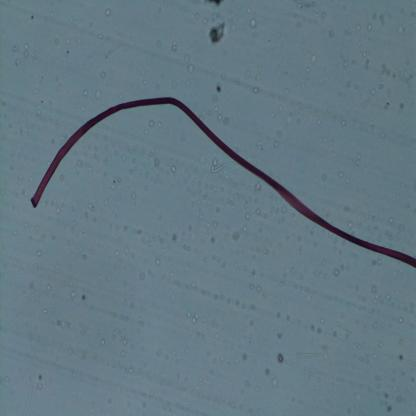Background material: (12, 265, 74, 382), (376, 59, 410, 83), (207, 18, 228, 46), (380, 390, 395, 416), (209, 160, 236, 174), (53, 315, 72, 334), (357, 350, 381, 363), (148, 148, 163, 168), (19, 40, 34, 58), (204, 1, 228, 12), (200, 290, 222, 301), (116, 329, 130, 346), (319, 24, 334, 38), (188, 310, 201, 326), (368, 282, 381, 296), (171, 38, 181, 56), (78, 208, 90, 223), (307, 53, 320, 65), (394, 310, 405, 324), (249, 12, 256, 34), (230, 230, 240, 245), (397, 22, 407, 37), (359, 60, 371, 72), (277, 350, 288, 363), (268, 134, 278, 148), (30, 82, 40, 96), (220, 114, 231, 126), (96, 67, 106, 80), (147, 115, 156, 129), (375, 336, 384, 350), (93, 86, 102, 100), (134, 270, 146, 280), (169, 166, 180, 176), (111, 176, 123, 185), (371, 319, 380, 331), (102, 8, 112, 18), (286, 112, 296, 122), (184, 53, 193, 64), (215, 83, 222, 97), (397, 102, 405, 114), (100, 336, 108, 348), (196, 210, 204, 222), (250, 85, 259, 95), (86, 201, 96, 210), (255, 284, 264, 294), (156, 37, 165, 47), (187, 62, 194, 74), (182, 244, 191, 253), (152, 257, 160, 266), (70, 291, 78, 300), (134, 228, 143, 236), (242, 350, 248, 362), (14, 57, 22, 66), (209, 234, 216, 244), (53, 36, 60, 46), (254, 179, 260, 190), (171, 232, 177, 243), (249, 303, 257, 311), (277, 334, 285, 342), (245, 213, 254, 220), (35, 247, 41, 257), (384, 101, 390, 111), (366, 22, 372, 32), (336, 172, 344, 179), (387, 216, 394, 224), (45, 283, 53, 290), (254, 206, 260, 215), (241, 301, 247, 310), (265, 366, 271, 375), (38, 232, 44, 240), (285, 314, 291, 322), (310, 324, 316, 332), (248, 282, 254, 290), (274, 313, 282, 319), (400, 352, 404, 362), (82, 295, 86, 303), (341, 118, 345, 126), (318, 328, 322, 334), (82, 254, 86, 260), (302, 83, 306, 88)
Glass filter fibre: (103, 28, 126, 59), (330, 320, 354, 341), (20, 381, 35, 414), (295, 349, 337, 359)
Microfibre: (25, 97, 416, 271)
